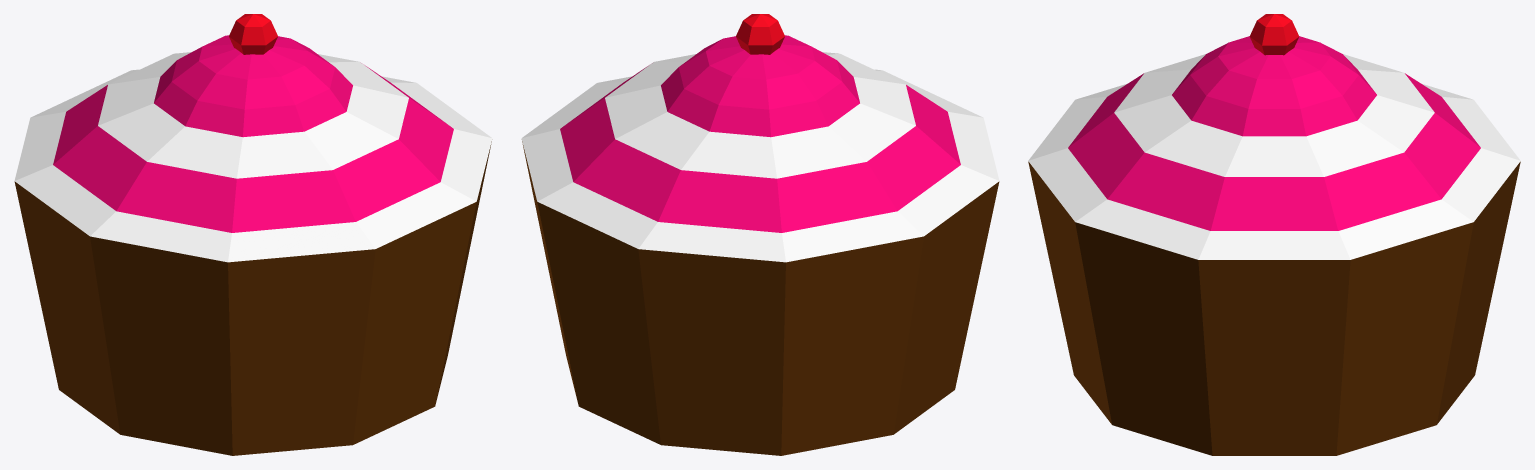
Rendered from Cupcake2.fbx.
3 views of the same model, side by side, from view 1: azimuth 30°, elevation 25°; view 2: azimuth 150°, elevation 25°; view 3: azimuth 270°, elevation 25° (orthographic).
Parts seen in each view (by area): view 1: Cupcake2; view 2: Cupcake2; view 3: Cupcake2.
Part boxes in pixels (bbox=[...]): Cupcake2: bbox=[14, 14, 492, 455]; Cupcake2: bbox=[521, 14, 999, 455]; Cupcake2: bbox=[1028, 14, 1520, 455].
Bounding box in the file's own units: 17.46 × 14.86 × 18.36.
Materials: 1 (1 with a texture image).
